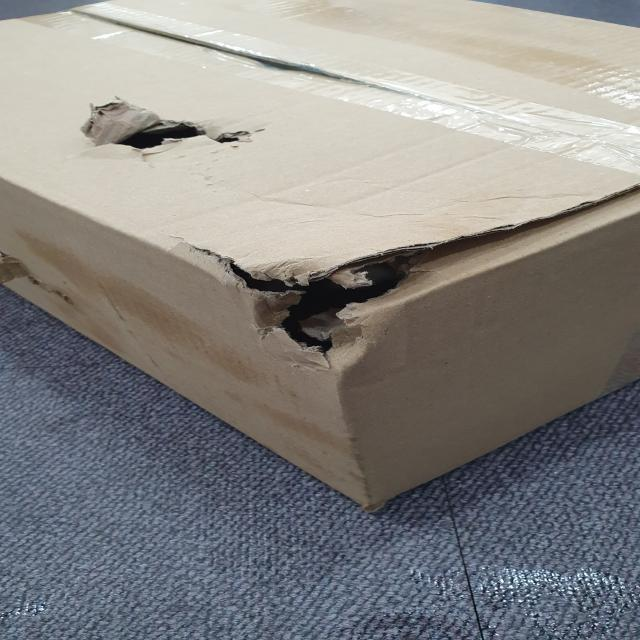hole: (204, 241, 452, 354), (105, 113, 265, 156)
